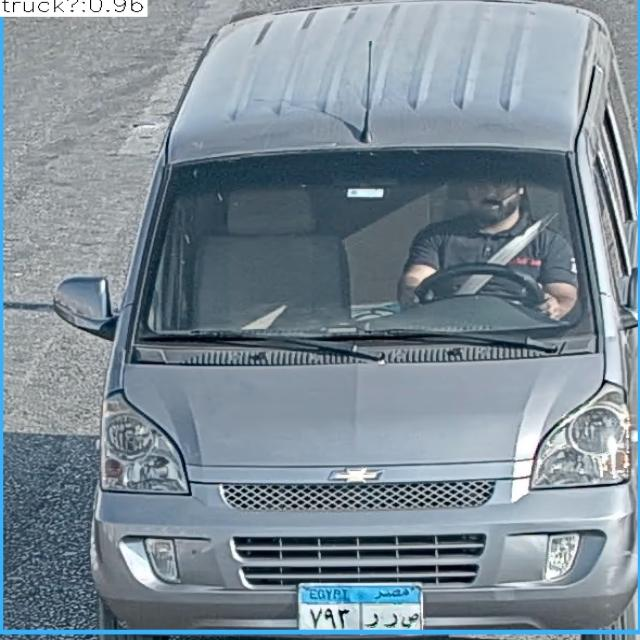windshield: (136, 149, 577, 344)
